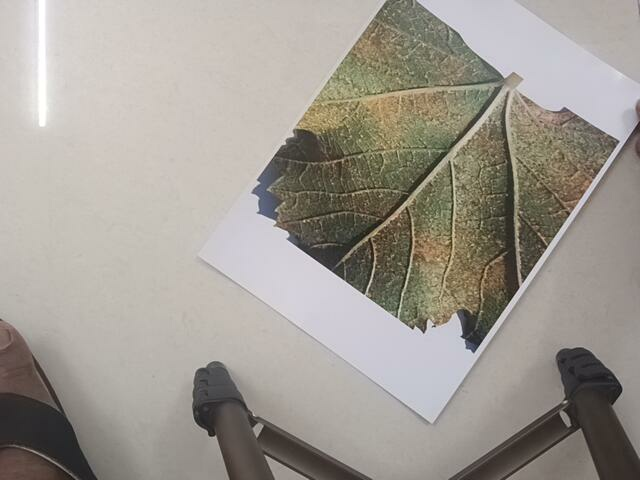Grape_Rust_Fungus: (268, 3, 624, 344)
